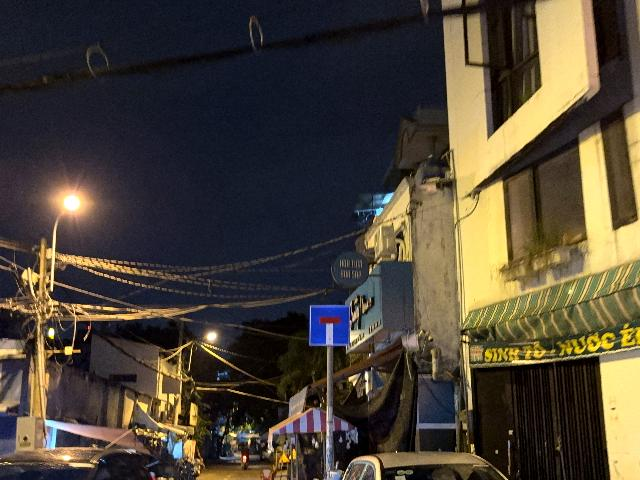duong-cut: (310, 305, 350, 347)
